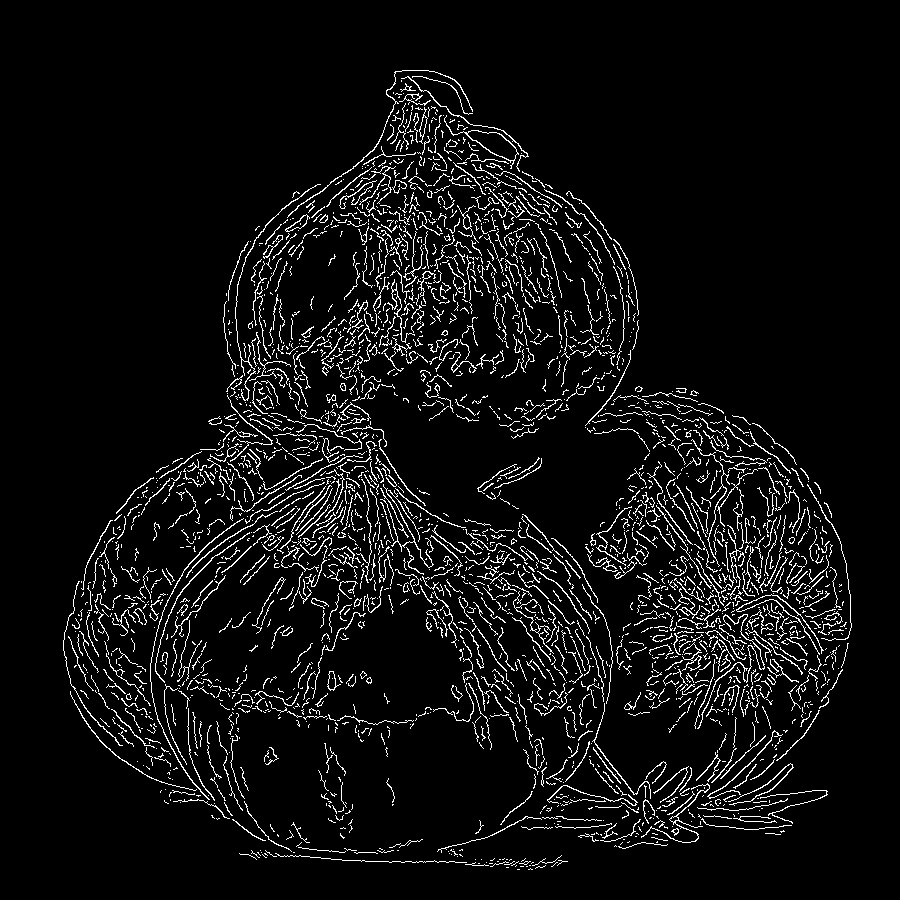red_onion: (150, 432, 604, 864), (182, 48, 622, 478), (514, 386, 870, 828)
